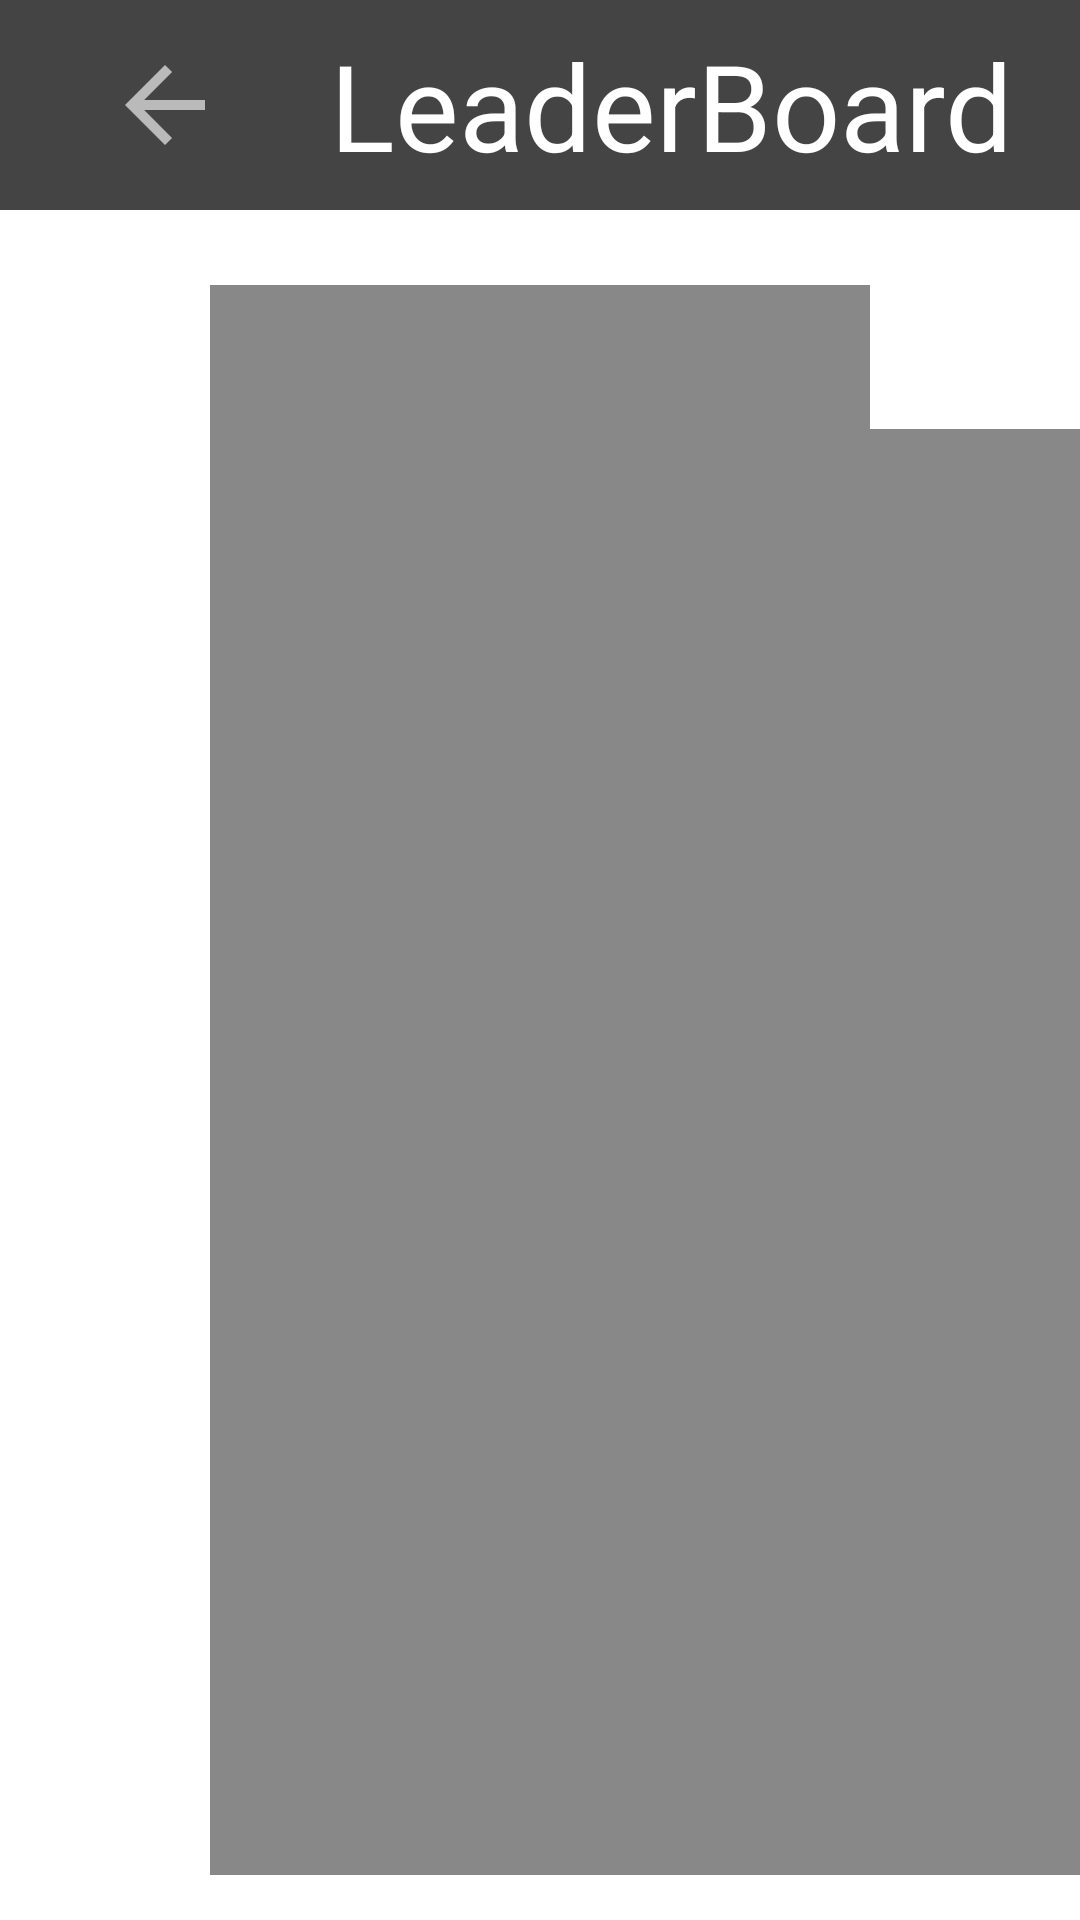

Screen size 1080 x 1920. Icon name, then its center in pixels as point (x, y):
arrow back: point (165, 105)
